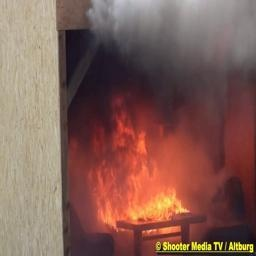fire: (66, 82, 223, 243)
